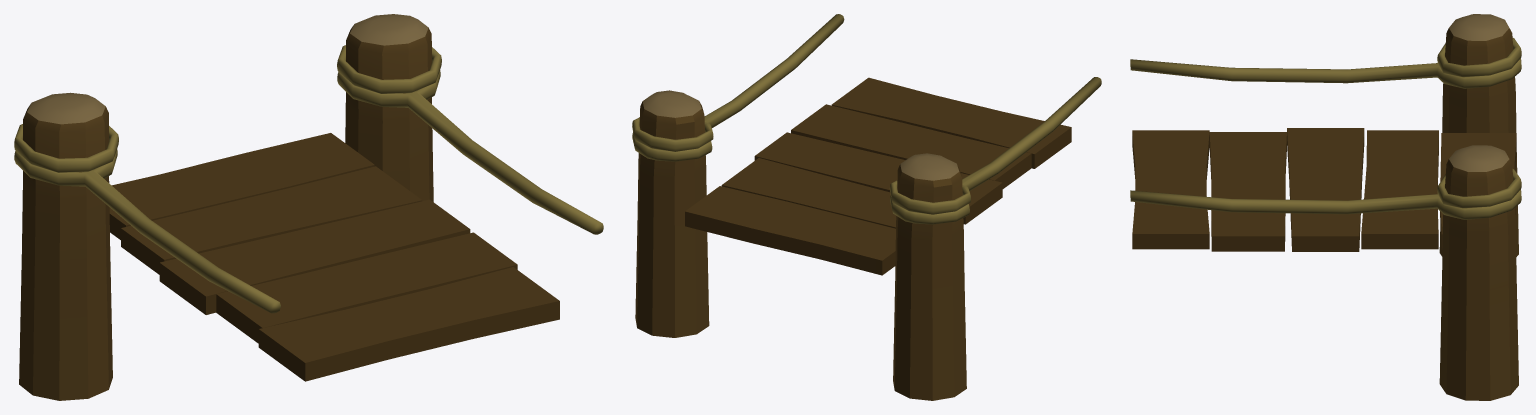
File: SingularDockObject.fbx
3 views of the same model, side by side, from view 1: azimuth 30°, elevation 25°; view 2: azimuth 150°, elevation 25°; view 3: azimuth 270°, elevation 25° (orthographic). The views are drawn at different scales.
Parts seen in each view (by area): view 1: DockPillar017, DockPlanks021, DockPlanks018, DockPlanks020, DockPlanks019, DockPillar018, DockPlanks017, RopeDock051, RopeDock052, RopeDock045, RopeDock050; view 2: DockPillar017, DockPillar018, DockPlanks017, DockPlanks021, DockPlanks020, DockPlanks019, DockPlanks018, RopeDock051, RopeDock052, RopeDock045, RopeDock050; view 3: DockPillar018, DockPlanks021, DockPlanks018, DockPlanks020, DockPlanks019, DockPillar017, RopeDock051, RopeDock052, DockPlanks017, RopeDock045, RopeDock050.
Boxes of the visible parts, left/top/right/bottom form: DockPillar017: left=19, top=92, right=112, bottom=400; DockPlanks021: left=258, top=267, right=559, bottom=381; DockPlanks018: left=159, top=199, right=470, bottom=314; DockPlanks020: left=216, top=232, right=517, bottom=343; DockPlanks019: left=121, top=166, right=422, bottom=274; DockPillar018: left=345, top=14, right=433, bottom=201; DockPlanks017: left=109, top=133, right=374, bottom=239; RopeDock051: left=337, top=70, right=603, bottom=234; RopeDock052: left=14, top=149, right=280, bottom=313; RopeDock045: left=14, top=124, right=118, bottom=172; RopeDock050: left=337, top=45, right=441, bottom=93; DockPillar017: left=893, top=153, right=966, bottom=400; DockPillar018: left=635, top=90, right=709, bottom=337; DockPlanks017: left=685, top=186, right=895, bottom=275; DockPlanks021: left=831, top=77, right=1071, bottom=168; DockPlanks020: left=791, top=104, right=1031, bottom=188; DockPlanks019: left=721, top=158, right=896, bottom=228; DockPlanks018: left=754, top=132, right=1002, bottom=224; RopeDock051: left=632, top=14, right=844, bottom=161; RopeDock052: left=890, top=77, right=1101, bottom=224; RopeDock045: left=889, top=180, right=970, bottom=214; RopeDock050: left=632, top=117, right=713, bottom=151; DockPillar018: left=1439, top=145, right=1518, bottom=400; DockPlanks021: left=1132, top=130, right=1209, bottom=249; DockPlanks018: left=1287, top=128, right=1364, bottom=251; DockPlanks020: left=1209, top=132, right=1286, bottom=251; DockPlanks019: left=1361, top=130, right=1438, bottom=249; DockPillar017: left=1439, top=14, right=1518, bottom=256; RopeDock051: left=1130, top=189, right=1521, bottom=219; RopeDock052: left=1130, top=58, right=1521, bottom=88; DockPlanks017: left=1440, top=133, right=1516, bottom=249; RopeDock045: left=1437, top=38, right=1521, bottom=77; RopeDock050: left=1437, top=169, right=1521, bottom=208.
Size of the model in its own units: 161 by 160 by 105.
